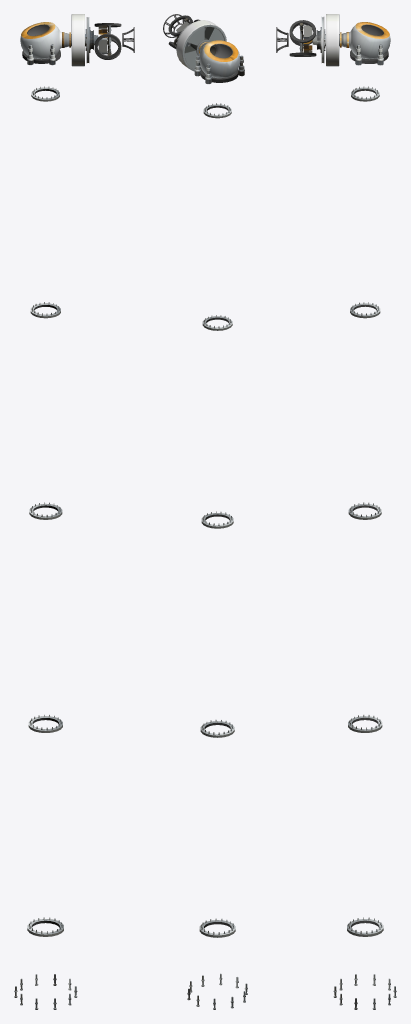
The model's file is zhiqu_neibumoxing.glb.
3 renders of one model, left to right at view 1: azimuth 90°, elevation 25°; view 2: azimuth 210°, elevation 25°; view 3: azimuth 270°, elevation 25°, orthographic.
Parts seen in each view (by area): view 1: neibumoxing_jicangneibu, neibumoxing_bianjiangxitong, neibumoxing_chuandonglian, neibumoxing_luoshuan5, neibumoxing_pianhangzhuangzhi, neibumoxing_luoshuan4, neibumoxing_maoshuan, neibumoxing_luoshuan3; view 2: neibumoxing_chuandonglian, neibumoxing_jicangneibu, neibumoxing_pianhangzhuangzhi, neibumoxing_bianjiangxitong, neibumoxing_luoshuan5, neibumoxing_luoshuan4, neibumoxing_maoshuan, neibumoxing_luoshuan3, neibumoxing_luoshuan2, neibumoxing_luoshuan1; view 3: neibumoxing_jicangneibu, neibumoxing_bianjiangxitong, neibumoxing_chuandonglian, neibumoxing_luoshuan5, neibumoxing_pianhangzhuangzhi, neibumoxing_luoshuan4, neibumoxing_maoshuan, neibumoxing_luoshuan3.
Part boxes in pixels (box(x1,y1,x2,y2)): neibumoxing_jicangneibu: box(20, 22, 61, 59); neibumoxing_bianjiangxitong: box(85, 23, 134, 59); neibumoxing_chuandonglian: box(62, 14, 98, 66); neibumoxing_luoshuan5: box(27, 917, 63, 936); neibumoxing_pianhangzhuangzhi: box(22, 44, 60, 65); neibumoxing_luoshuan4: box(28, 714, 62, 732); neibumoxing_maoshuan: box(14, 974, 77, 1009); neibumoxing_luoshuan3: box(29, 502, 62, 519); neibumoxing_chuandonglian: box(176, 20, 226, 71); neibumoxing_jicangneibu: box(199, 40, 240, 78); neibumoxing_pianhangzhuangzhi: box(194, 55, 244, 83); neibumoxing_bianjiangxitong: box(163, 14, 205, 48); neibumoxing_luoshuan5: box(199, 918, 235, 937); neibumoxing_luoshuan4: box(200, 719, 234, 737); neibumoxing_maoshuan: box(187, 973, 247, 1009); neibumoxing_luoshuan3: box(201, 511, 233, 528); neibumoxing_luoshuan2: box(202, 315, 232, 330); neibumoxing_luoshuan1: box(203, 103, 231, 118); neibumoxing_jicangneibu: box(349, 22, 390, 59); neibumoxing_bianjiangxitong: box(276, 20, 325, 56); neibumoxing_chuandonglian: box(312, 14, 348, 66); neibumoxing_luoshuan5: box(347, 917, 383, 936); neibumoxing_pianhangzhuangzhi: box(350, 44, 388, 65); neibumoxing_luoshuan4: box(348, 714, 382, 732); neibumoxing_maoshuan: box(333, 974, 396, 1009); neibumoxing_luoshuan3: box(348, 502, 381, 519).
Bounding box in the file's own units: 527 × 9501 × 1058.
Materials: 1 (1 with a texture image).
